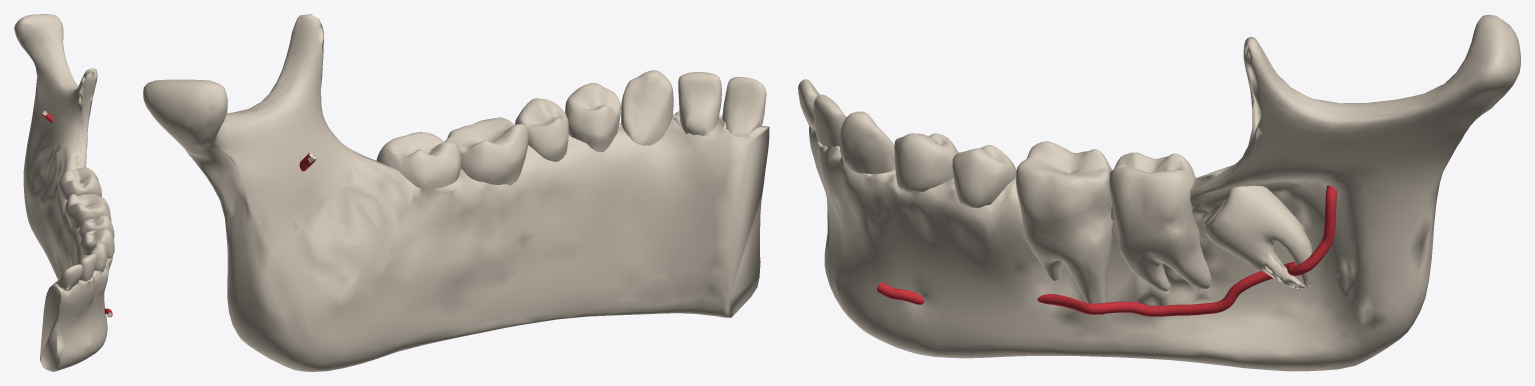
Rendered from wisdom-tooth.glb.
The picture shows the model from 3 angles, left to right: view 1: azimuth 30°, elevation 25°; view 2: azimuth 150°, elevation 25°; view 3: azimuth 270°, elevation 25°; orthographic projection. The views are drawn at different scales.
Visible parts, largest first — view 1: mandible left, teeth, nerve; view 2: mandible left, teeth; view 3: mandible left, teeth, wisdom tooth, nerve.
Part boxes in pixels (bbox=[...]): mandible left: bbox=[14, 14, 112, 371]; teeth: bbox=[55, 167, 114, 290]; nerve: bbox=[41, 110, 112, 317]; mandible left: bbox=[143, 14, 769, 371]; teeth: bbox=[376, 70, 766, 192]; mandible left: bbox=[809, 14, 1520, 371]; teeth: bbox=[798, 79, 1210, 315]; wisdom tooth: bbox=[1203, 185, 1312, 288]; nerve: bbox=[877, 185, 1336, 316].
Size of the model in its own units: 0.0913 by 0.1057 by 0.1665.
